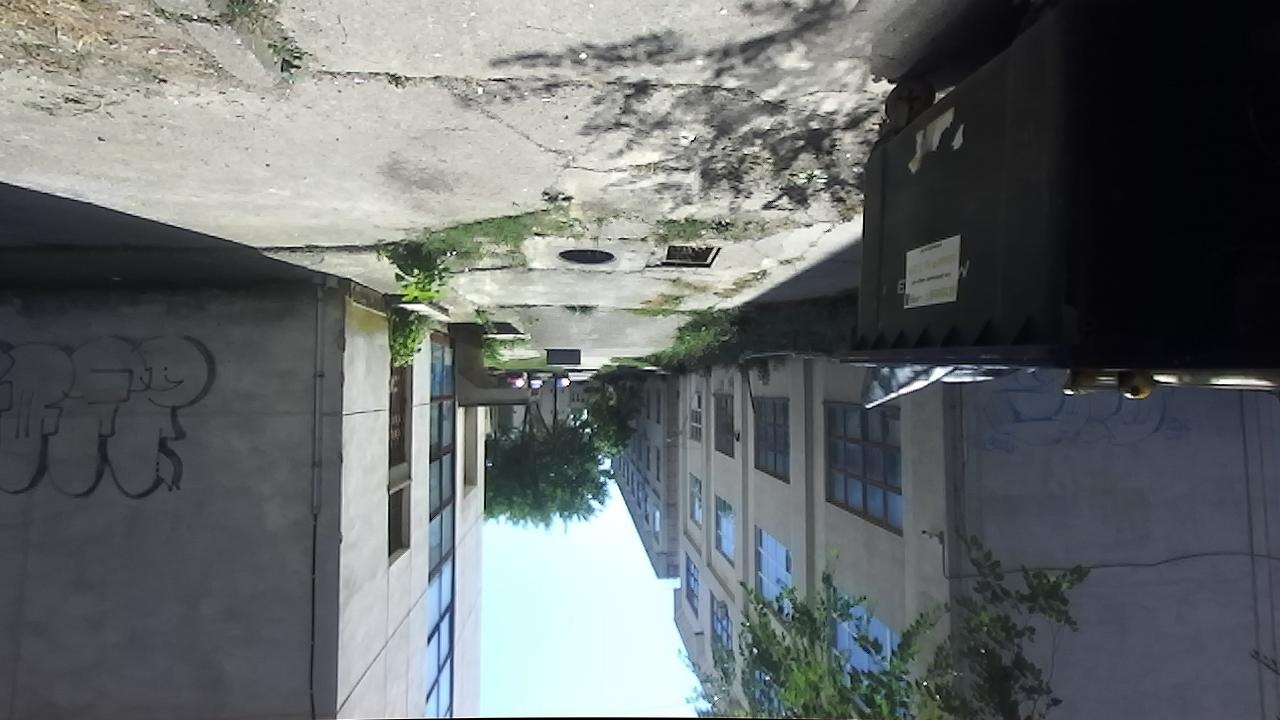drain: (657, 241, 725, 272), (555, 244, 620, 272)
